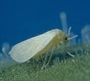whitefly: (8, 28, 78, 70)
